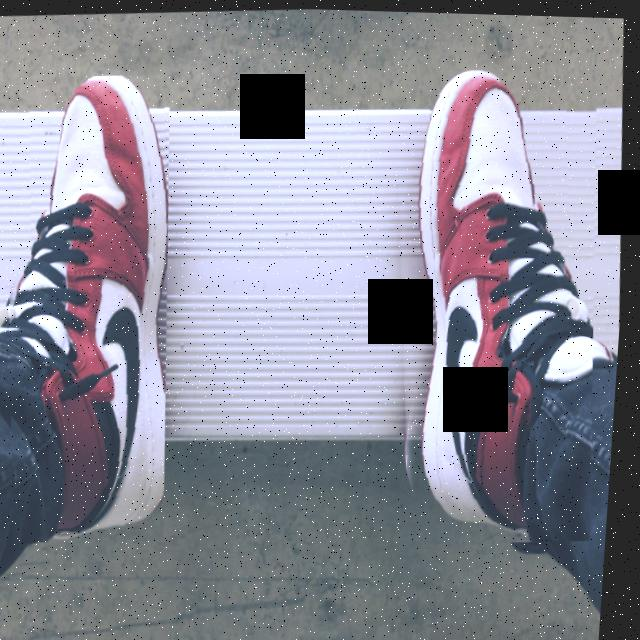shoe: (370, 49, 623, 548), (0, 69, 195, 548)
